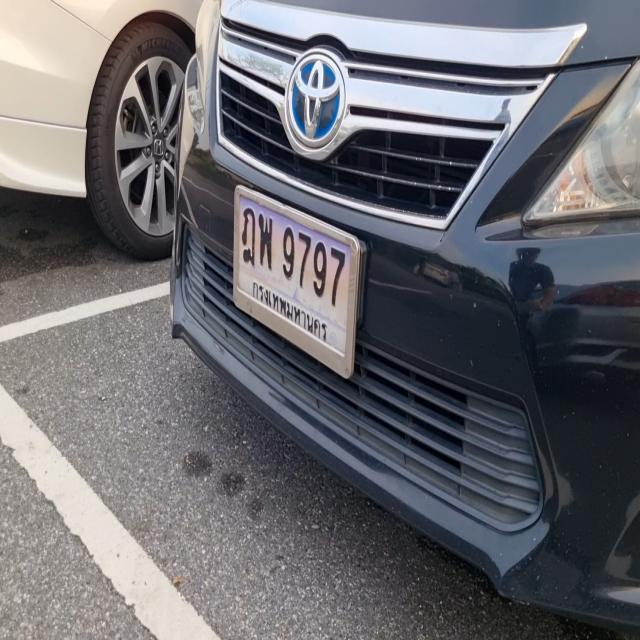license_plate: (232, 180, 365, 386)
